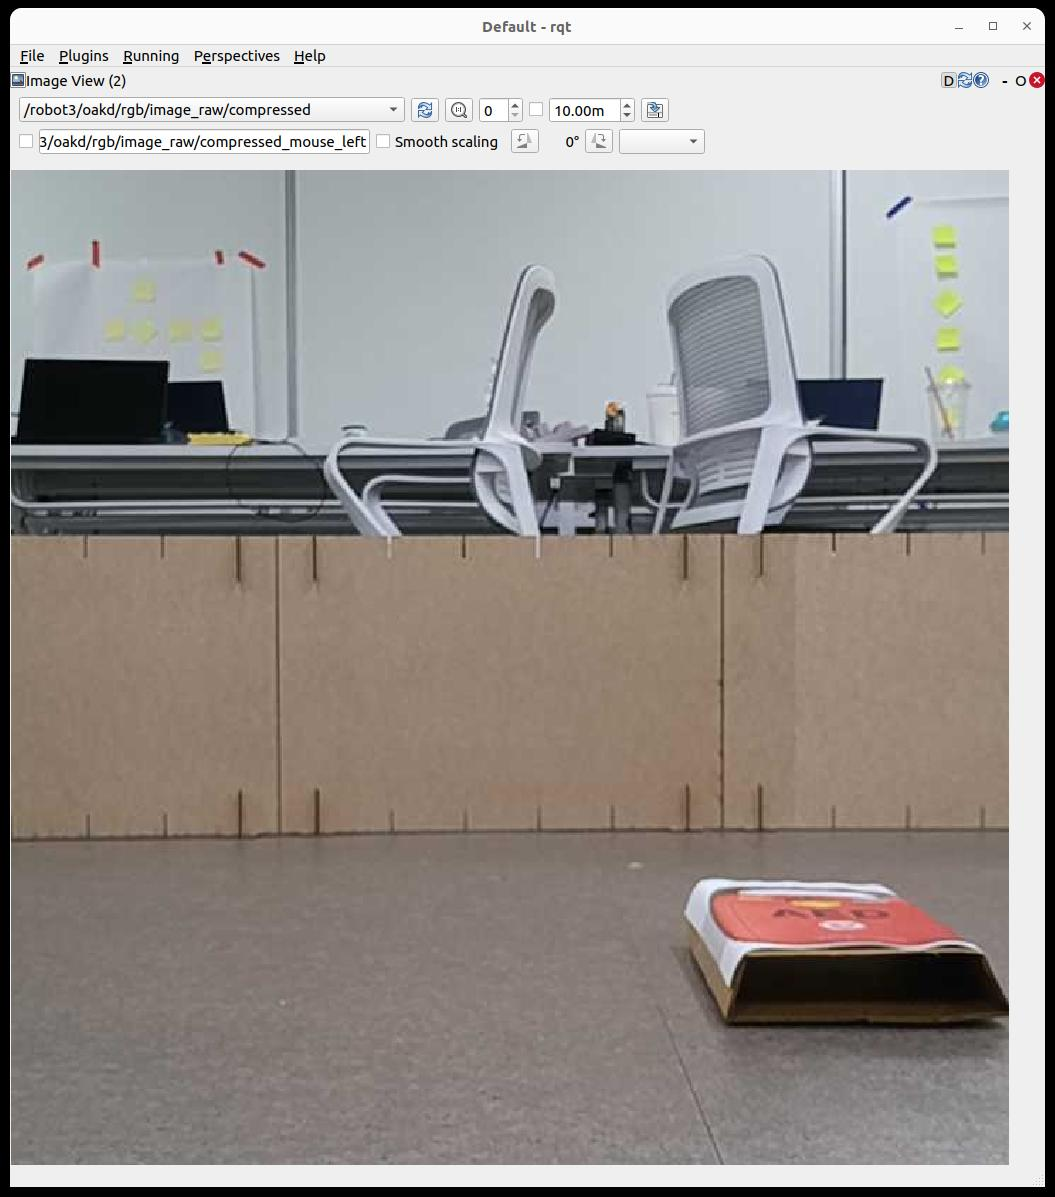AED: (708, 883, 957, 948)
